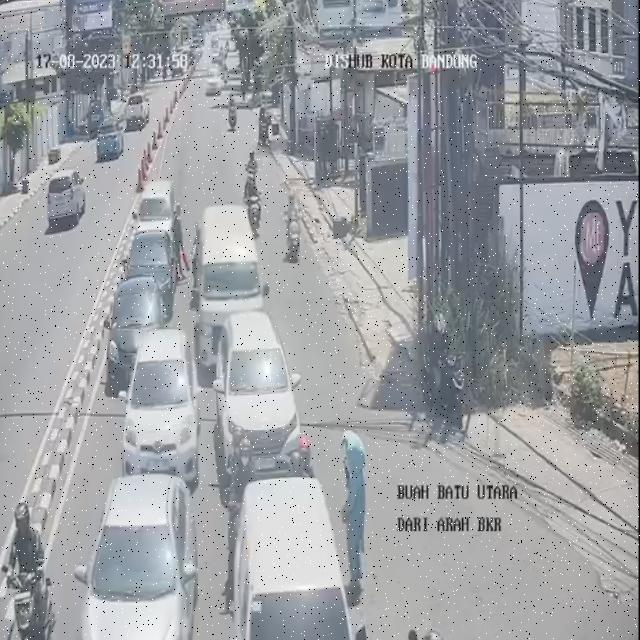cars: (230, 478, 364, 640), (75, 471, 198, 639), (217, 310, 300, 482), (196, 202, 268, 362), (126, 330, 201, 482), (112, 275, 169, 385), (130, 228, 178, 308), (134, 179, 174, 236), (207, 65, 220, 94)
motorcycle: (4, 499, 46, 640), (244, 150, 264, 236), (281, 184, 300, 263)
